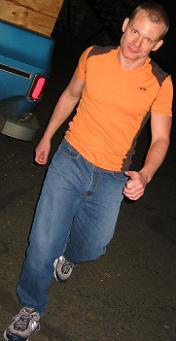person: (2, 7, 176, 341)
